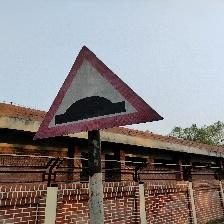Speed-breaker: (32, 45, 164, 139)
